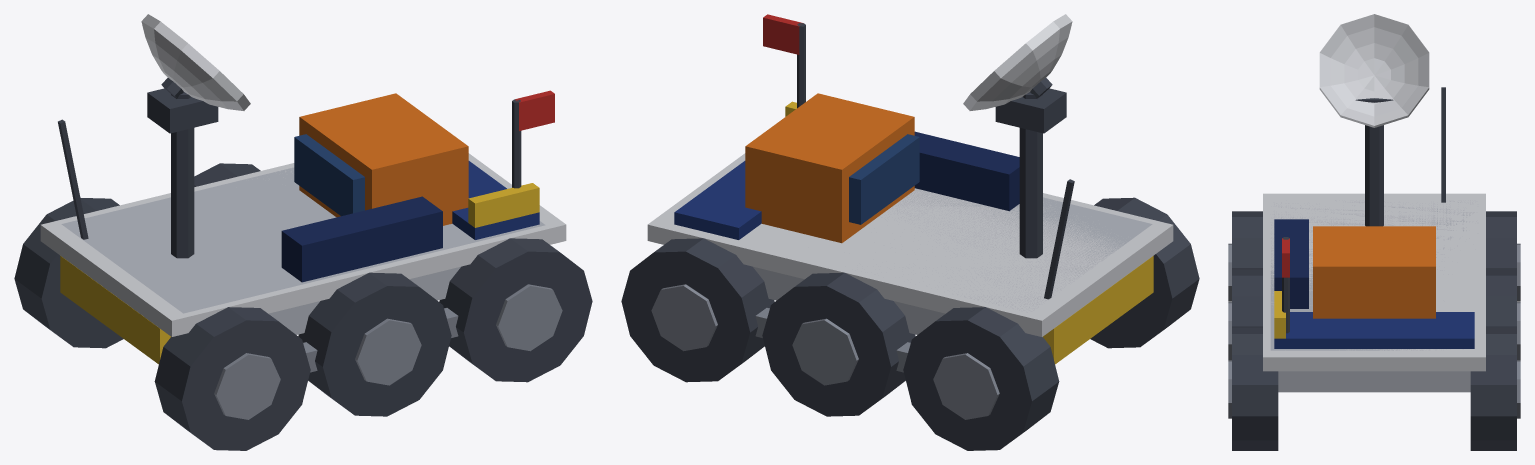
Rendered from Decor_LaunchPad_Rover.fbx.
3 renders of one model, left to right at view 1: azimuth 30°, elevation 25°; view 2: azimuth 150°, elevation 25°; view 3: azimuth 270°, elevation 25°, orthographic. The views are drawn at different scales.
Visible parts, largest first — view 1: Rover_Body; view 2: Rover_Body; view 3: Rover_Body.
Part boxes in pixels (x1,y1,x2,y2): Rover_Body: (14, 14, 592, 450); Rover_Body: (621, 14, 1199, 450); Rover_Body: (1228, 14, 1520, 450).
Size of the model in its own units: 10.2 by 8.75 by 7.4.
